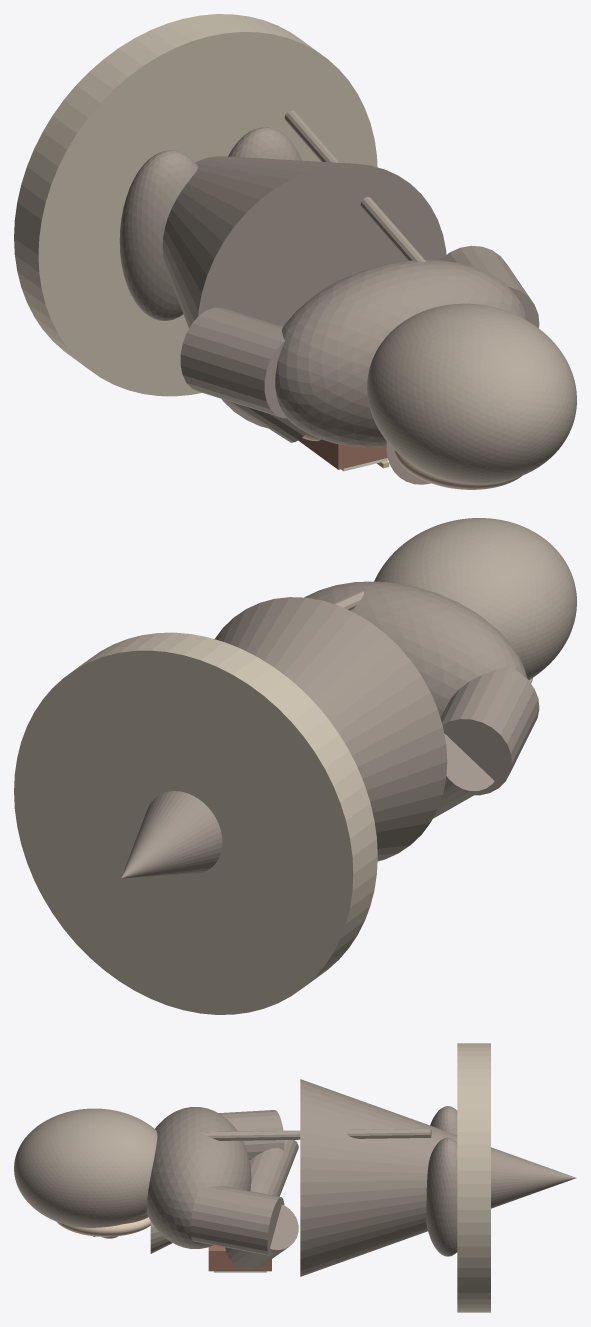
The model's file is grigor_narekatsi_stylized_3d.glb.
3 renders of one model, top to bottom at view 1: azimuth 30°, elevation 25°; view 2: azimuth 150°, elevation 25°; view 3: azimuth 270°, elevation 25°, orthographic. The views are drawn at different scales.
Visible parts, largest first — view 1: Պատվանդան, Վանականի պատմուճան, Գլխարկ, Ուսեր, Ձախ թև վերին, Ձախ կոշիկ, Պատմուճանի ծալք, Աջ թև վերին, Աջ կոշիկ, Մատյան, Ձախ թև նախաբազուկ, Դեմքի բացվածք; view 2: Պատվանդան, Վանականի պատմուճան, Գլխարկ, Ուսեր, Ձախ թև վերին, Ձախ թև նախաբազուկ; view 3: Վանականի պատմուճան, Գլխարկ, Պատվանդան, Ուսեր, Աջ թև վերին, Աջ կոշիկ, Ձախ թև նախաբազուկ, Պատմուճանի ծալք, Աջ թև նախաբազուկ, Ձախ թև վերին, Դեմքի բացվածք, Մատյան (+2 smaller).
Part boxes in pixels (x1,y1,x2,y2): Պատվանդան: (14,14,377,396); Վանականի պատմուճան: (162,156,446,428); Գլխարկ: (367,303,576,483); Ուսեր: (275,259,528,447); Ձախ թև վերին: (180,307,287,418); Ձախ կոշիկ: (119,150,198,320); Պատմուճանի ծալք: (284,110,425,261); Աջ թև վերին: (440,245,539,327); Աջ կոշիկ: (228,127,301,160); Մատյան: (298,438,387,469); Ձախ թև նախաբազուկ: (223,399,306,442); Դեմքի բացվածք: (394,450,521,489); Պատվանդան: (14,632,377,1014); Վանականի պատմուճան: (121,597,447,878); Գլխարկ: (374,518,576,680); Ուսեր: (304,581,527,718); Ձախ թև վերին: (440,666,539,795); Ձախ թև նախաբազուկ: (433,733,494,818); Վանականի պատմուճան: (300,1079,576,1276); Գլխարկ: (14,1108,157,1227); Պատվանդան: (457,1043,490,1312); Ուսեր: (146,1107,251,1248); Աջ թև վերին: (190,1186,284,1255); Աջ կոշիկ: (426,1137,457,1256); Ձախ թև նախաբազուկ: (249,1140,298,1196); Պատմուճանի ծալք: (202,1128,431,1140); Աջ թև նախաբազուկ: (225,1204,298,1269); Ձախ թև վերին: (218,1110,284,1159); Դեմքի բացվածք: (56,1217,150,1236); Մատյան: (208,1245,271,1271).
Size of the model in its own units: 1.44 by 1.44 by 3.01.
